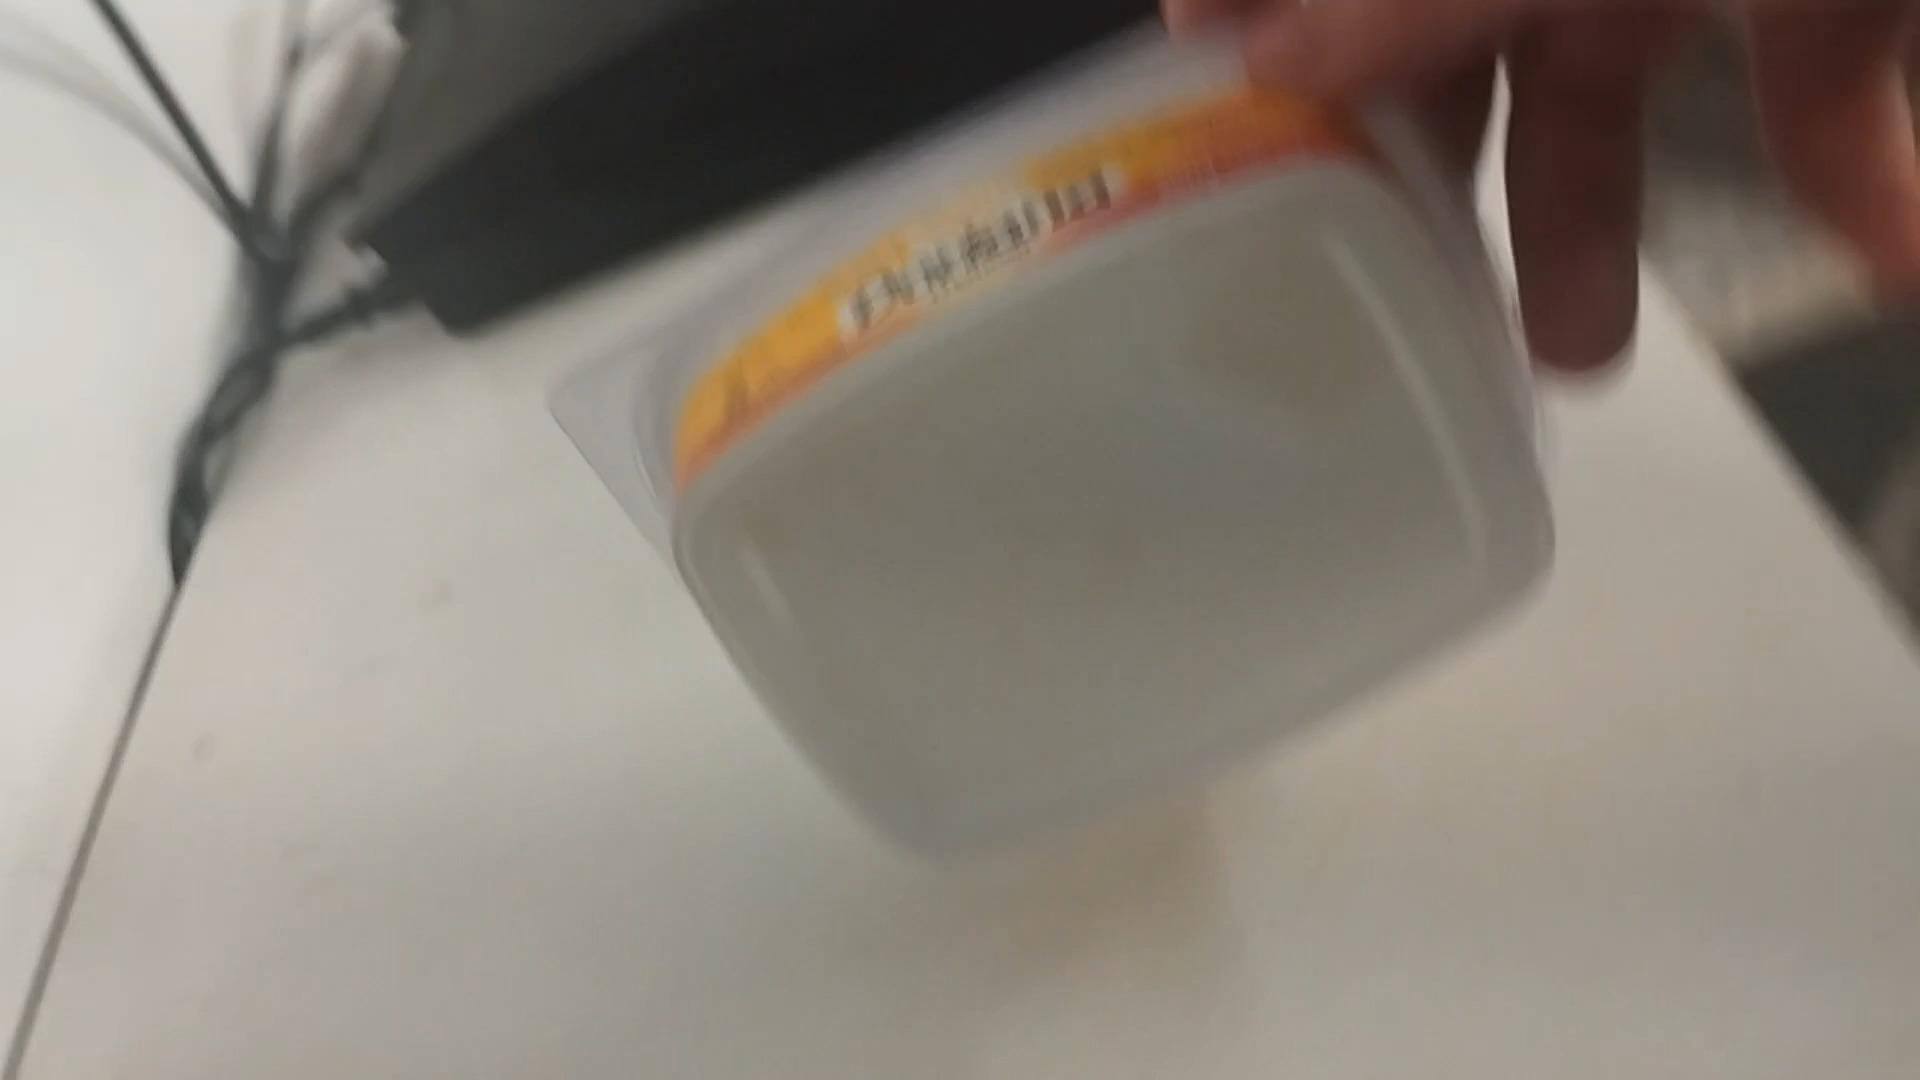butter: (547, 29, 1564, 877)
